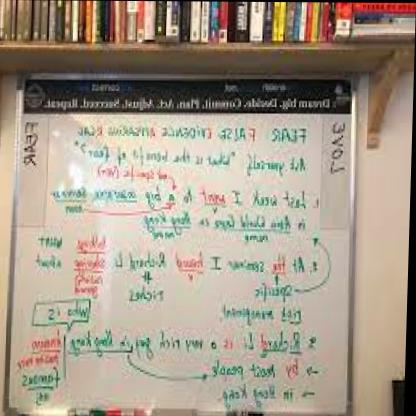Handwritten text: (70, 322, 304, 358), (47, 182, 315, 213), (90, 145, 311, 178), (110, 248, 315, 277), (68, 118, 312, 142), (135, 212, 298, 236), (221, 380, 304, 409), (209, 356, 307, 379), (248, 279, 303, 305), (38, 299, 92, 322), (34, 232, 69, 250)
Whiteboard: (7, 70, 360, 416)
